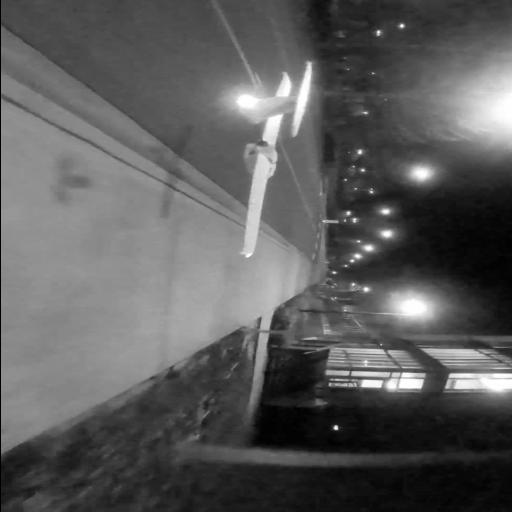uav: (227, 52, 317, 260)
